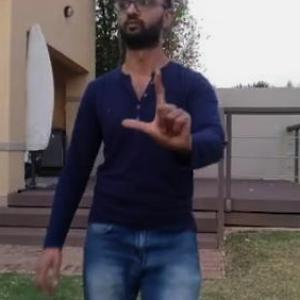land_hand: (120, 61, 199, 158)
